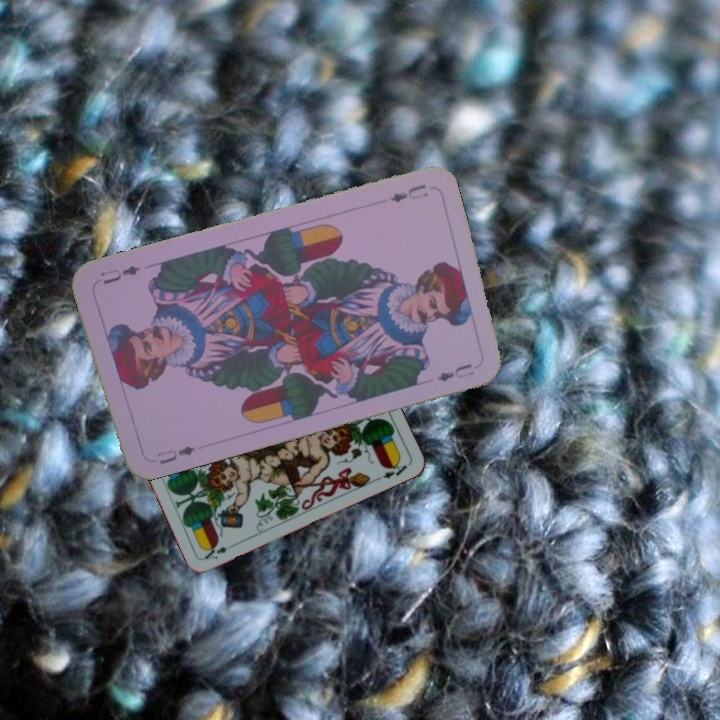EA: (200, 540, 230, 562)
EU: (153, 441, 198, 467), (385, 180, 431, 205)
